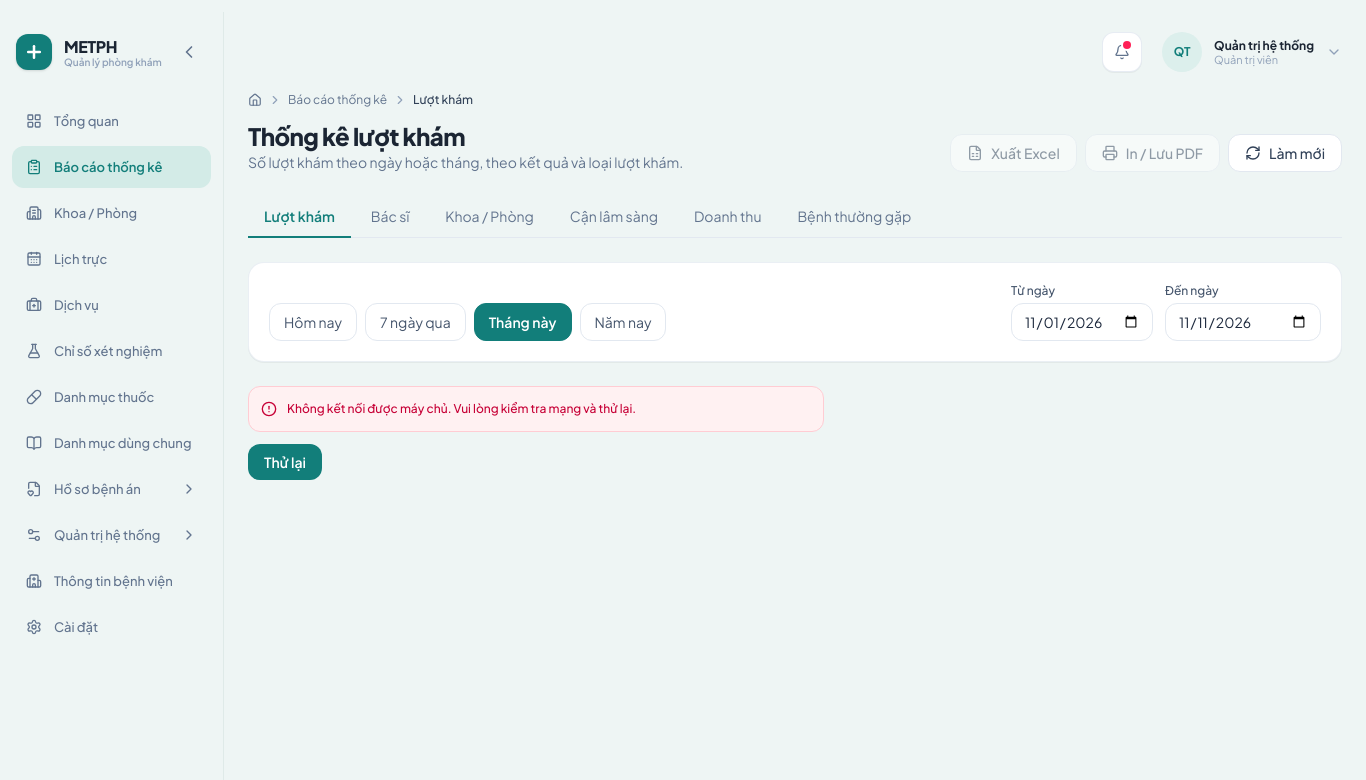
Test: VisitStatisticsPage (UC-27) › shows a Vietnamese error and retries
Check: the text "Không kết nối được máy chủ. Vui lòng kiểm tra mạng và thử lại." is shown, box [287,399,636,419]
What coordinates should you click on to do the following:
click the button "Thử lại"
I would click on:
 (285, 462)
Its box is [248,444,322,480].
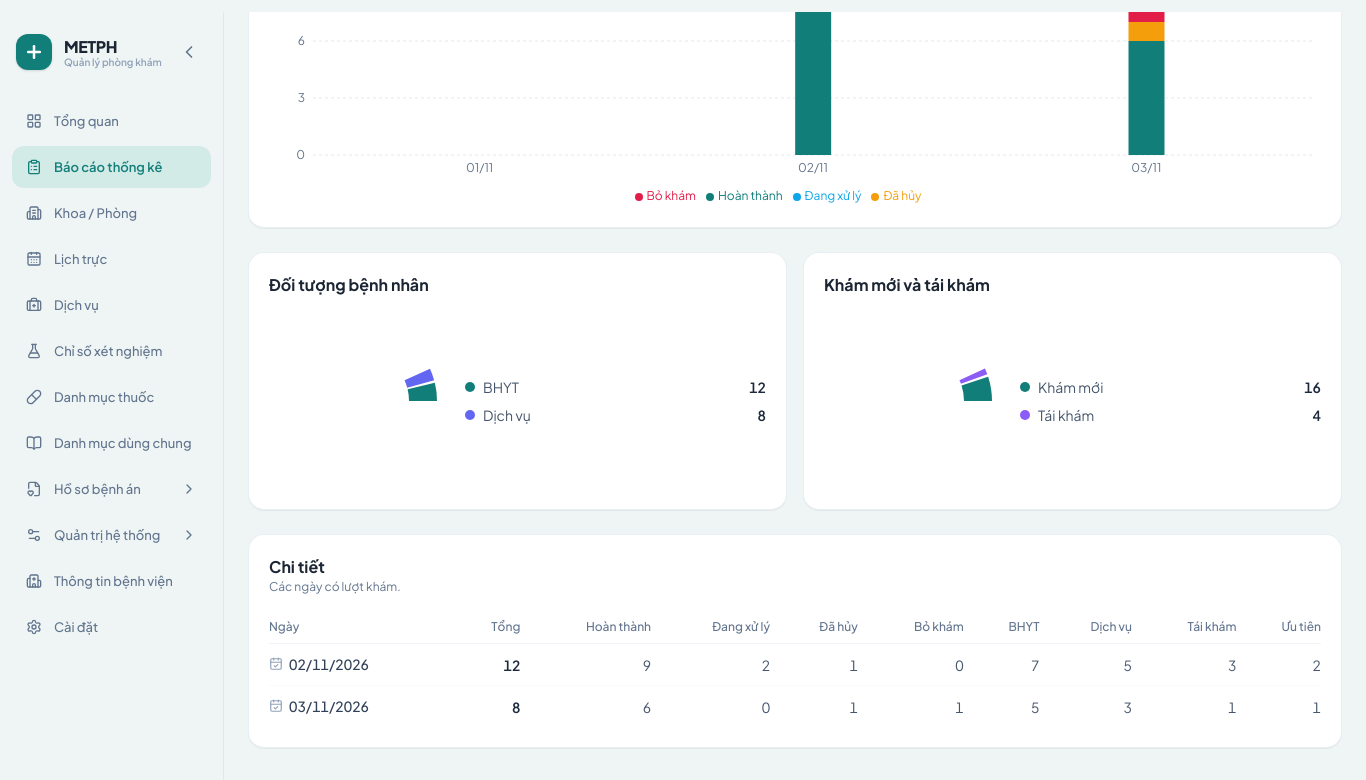
Check: the table is shown, box [269,611,1321,727]
